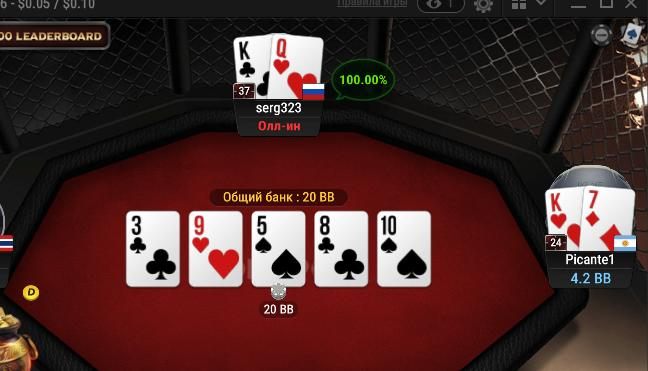10s: (378, 211, 431, 286)
3c: (126, 212, 179, 287)
5s: (252, 211, 306, 287)
7d: (582, 185, 636, 249)
8c: (316, 212, 368, 285)
9h: (190, 211, 243, 287)
Kc: (232, 35, 270, 97)
Kh: (545, 188, 582, 252)
Qh: (270, 32, 323, 100)
